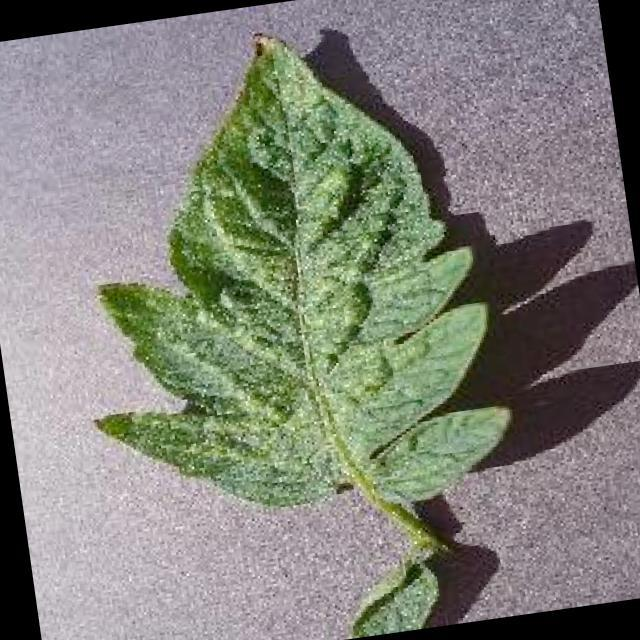Tomato spider mites leaf: (46, 3, 524, 544)
